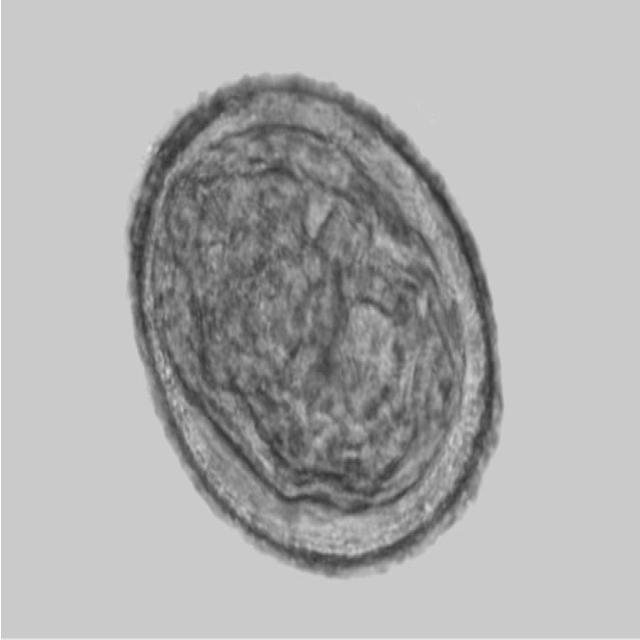Schistosoma: (116, 75, 495, 588)
